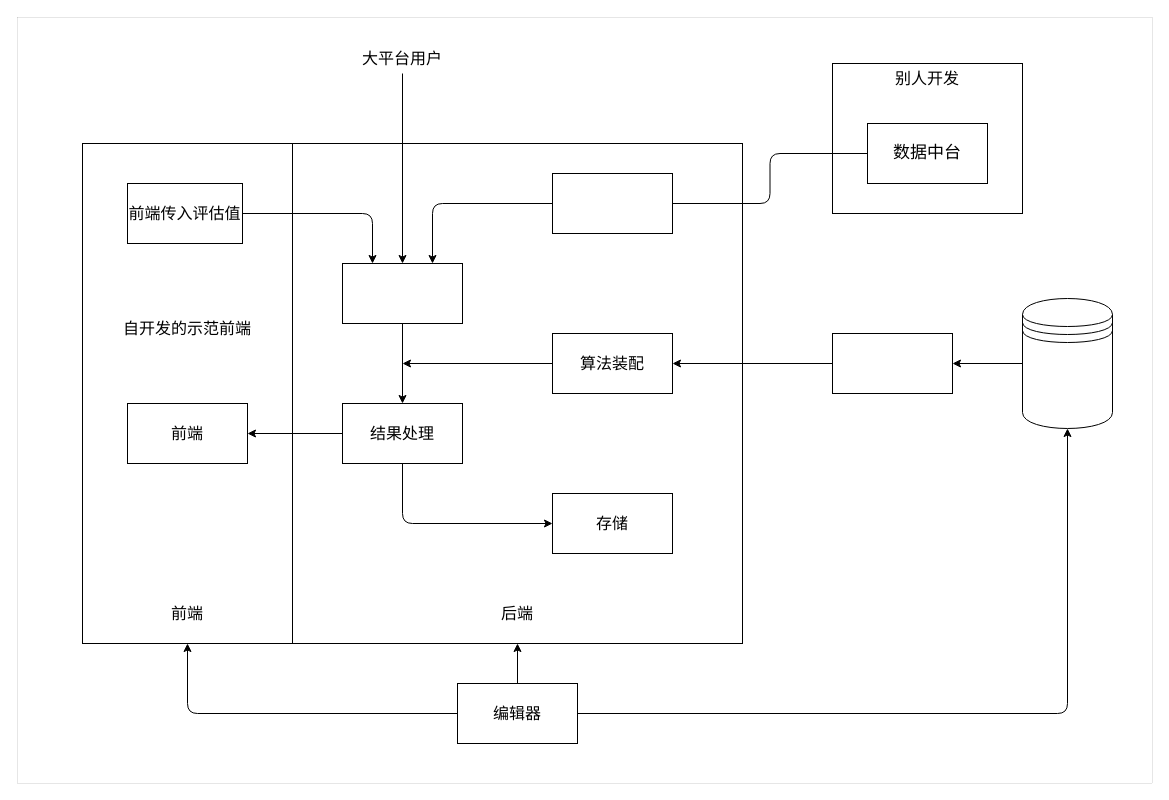
Image size: 1169x800. Some labels were removed from this diagram. Here are the shapes that lost their labels. From the top down, the centre of each, then its label:
At (612,203): "获取评估传入值".
At (402,293): "总线函数".
At (892,363): "获取算法".
At (1067,363): "算法库".
